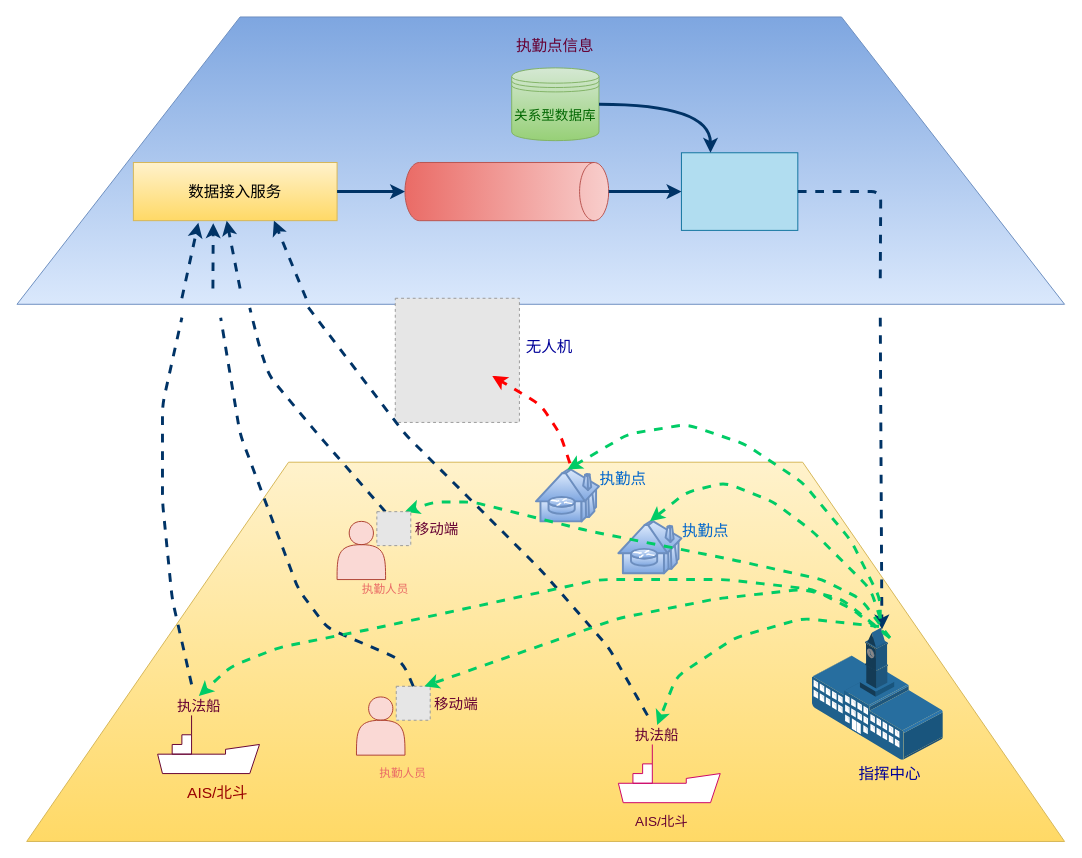
Some shapes in this 1082 by 858 pixel diagram are drawn without their labels. Grey dashed boxes stand in for pictures. The shapes that lost their labels are listed below. From the top down, each one's centre as x and y in pixels, then its label:
point 506,191: 消息中间件
point 739,191: 后台服务
